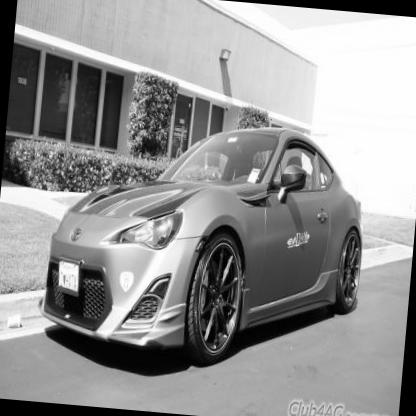car: (45, 85, 399, 386)
